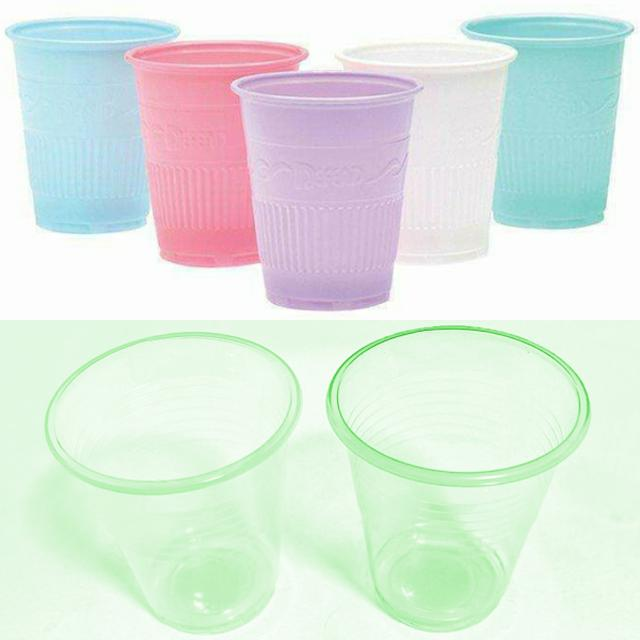Single-Use-Plastic: (328, 326, 589, 631), (48, 332, 300, 633), (232, 71, 421, 309), (125, 41, 308, 266), (338, 41, 516, 263), (6, 19, 179, 232), (461, 15, 634, 228)
